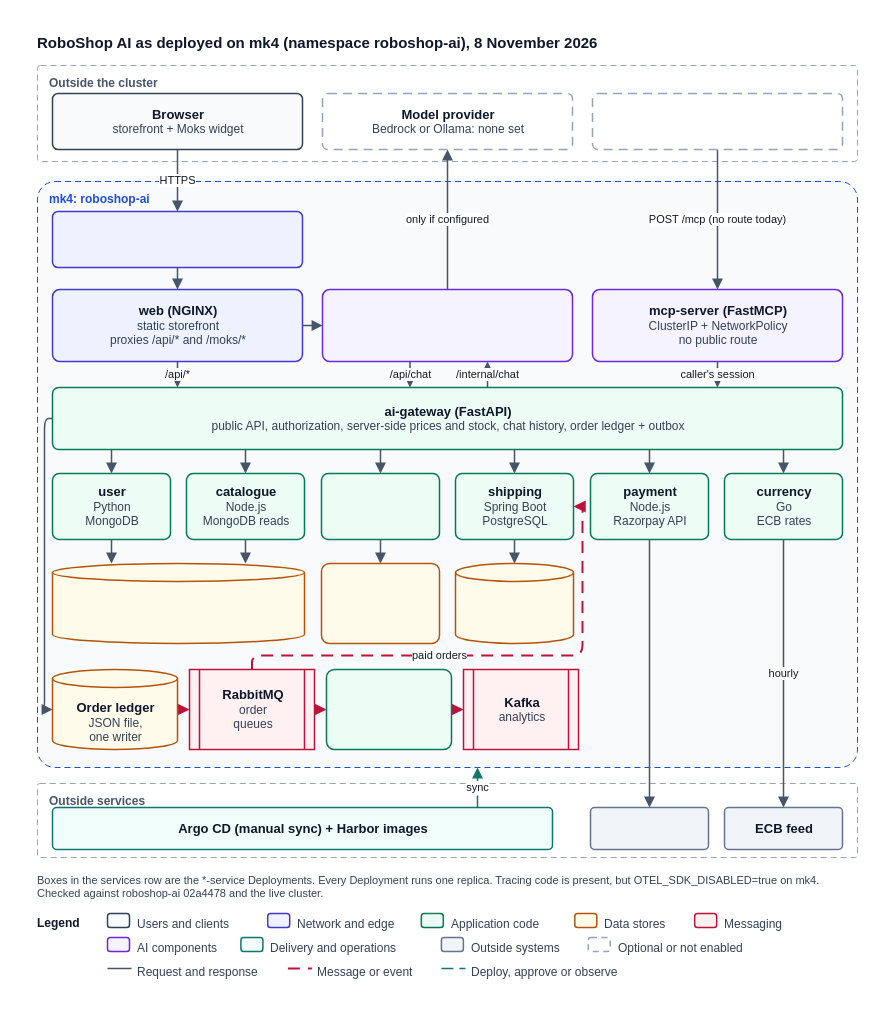
This 894x1010 diagram has some shape labels left out. The centre of each missing label's shape, as x and y in pixels:
"cart Python Redis" goes at (380,506).
"kafka-bridge Python relays orders" goes at (388,709).
"MCP client Claude, an IDE or a script" goes at (717,121).
"moks widget + 3-node LangGraph reads catalogue, no writes" goes at (447,325).
"MongoDB products, users, chats" goes at (178,603).
"PostgreSQL shipping-db" goes at (514,603).
"Razorpay" goes at (649,828).
"Redis carts" goes at (380,603).
"Traefik ingress /roboshop, prefix stripped" goes at (177,239).
